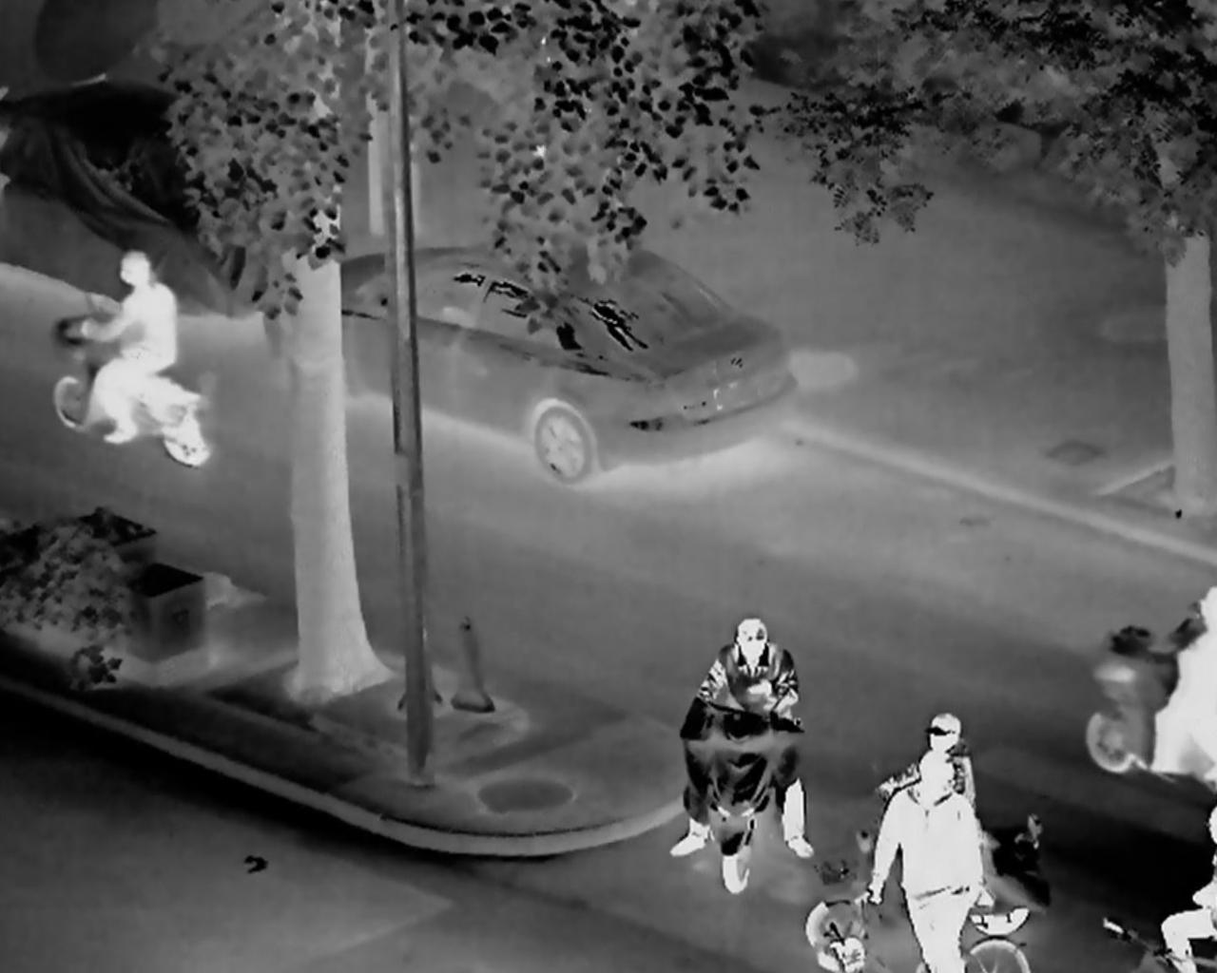person: (681, 613, 834, 895), (863, 750, 996, 973), (87, 246, 185, 451), (880, 704, 975, 822), (1156, 794, 1217, 973), (1165, 576, 1217, 767)
